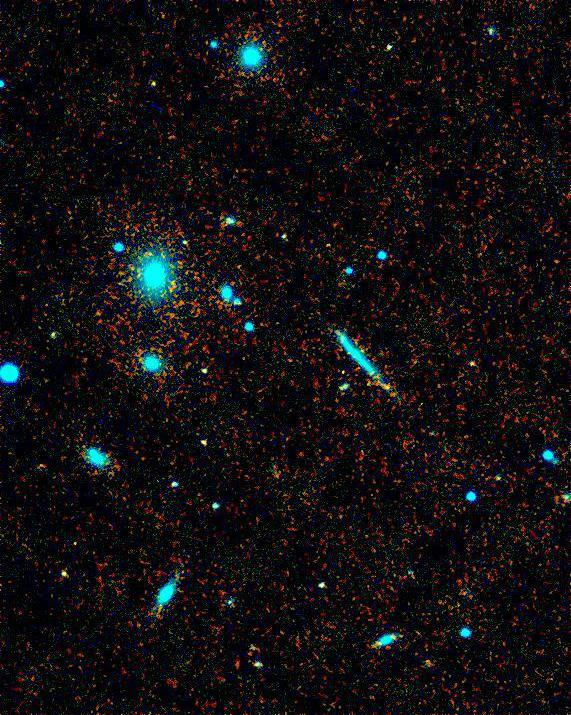star: (139, 71, 169, 101)
